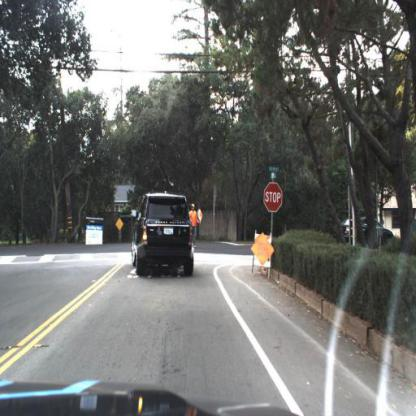car: (132, 193, 195, 279), (337, 214, 397, 250)
pedestrian: (187, 202, 203, 251)
